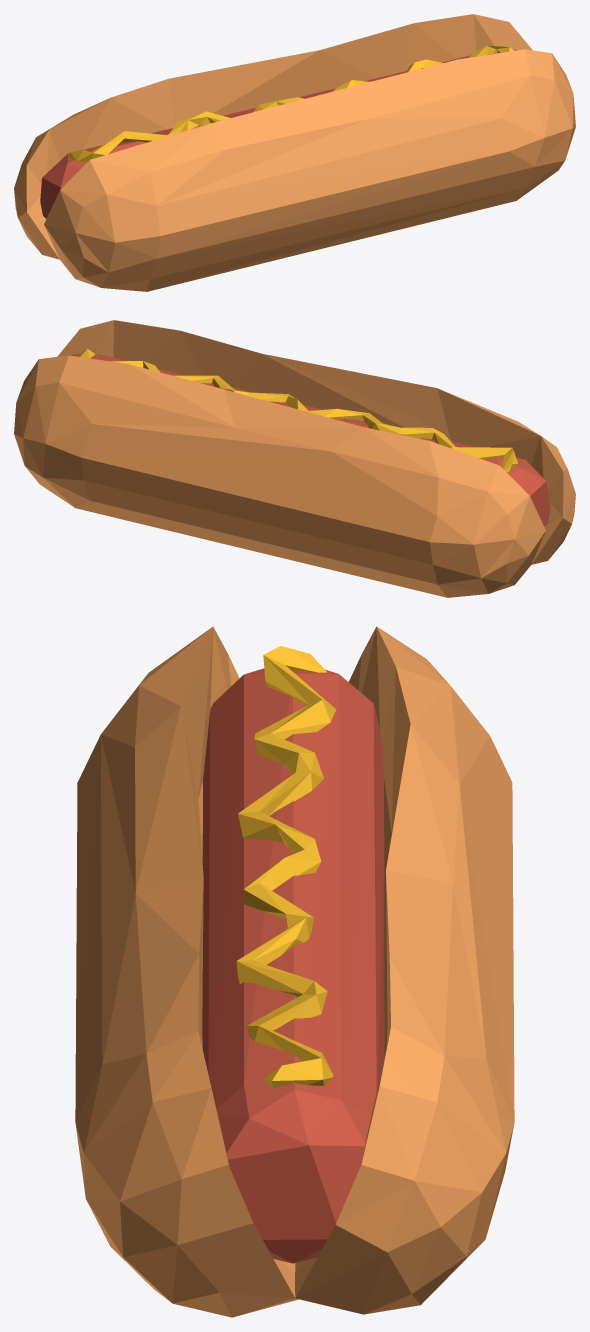
File: Hotdog_01.fbx
The picture shows the model from 3 angles, top to bottom: view 1: azimuth 30°, elevation 25°; view 2: azimuth 150°, elevation 25°; view 3: azimuth 270°, elevation 25°; orthographic projection. The views are drawn at different scales.
Visible parts, largest first — view 1: Hotdog_01; view 2: Hotdog_01; view 3: Hotdog_01.
Boxes of the visible parts, x1=… form: Hotdog_01: x1=14, y1=14, x2=575, y2=291; Hotdog_01: x1=14, y1=320, x2=575, y2=597; Hotdog_01: x1=75, y1=626, x2=514, y2=1317.
Bounding box in the file's own units: 21.81 × 6.17 × 8.01.
